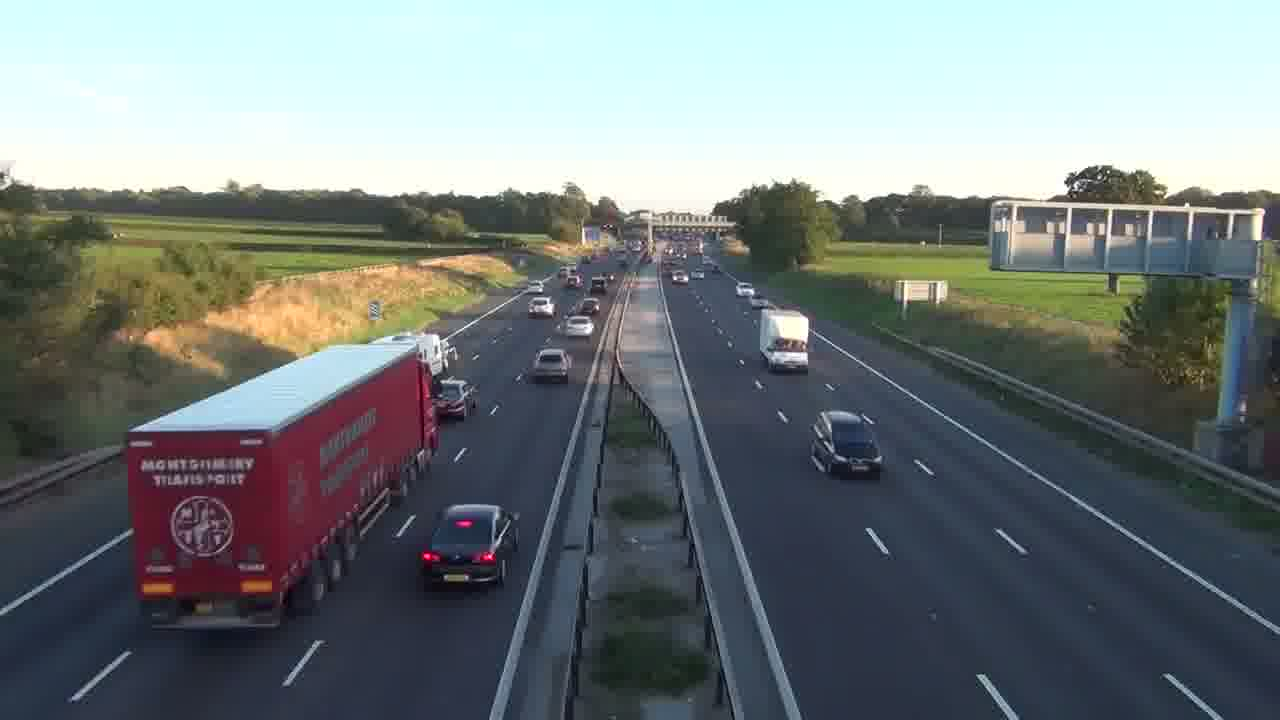car: (417, 502, 521, 592), (810, 408, 885, 480), (433, 378, 479, 421), (530, 347, 573, 384), (527, 296, 556, 319)
truck: (127, 338, 440, 630), (758, 308, 810, 373)
